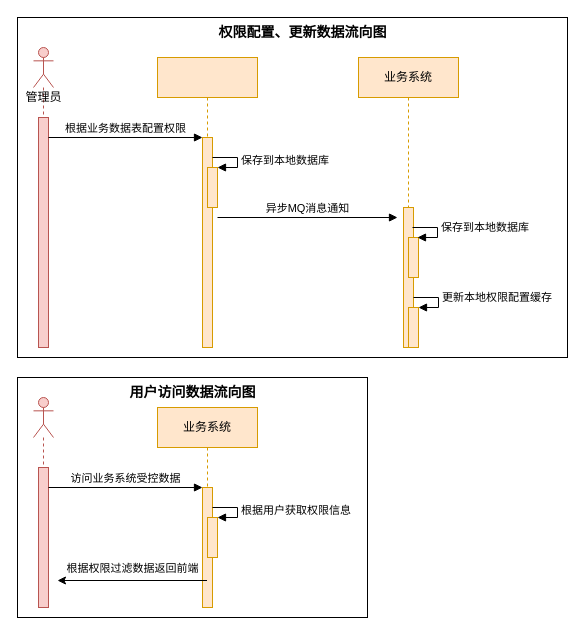
The diagram is 585 pixels wide and 635 high, and some of its shapes have lost their labels. The shapes that lost their labels are listed below. From the top down, each one's centre as x and y in pixels, then its label:
(207,202): 办公平台
(43,502): 用户
